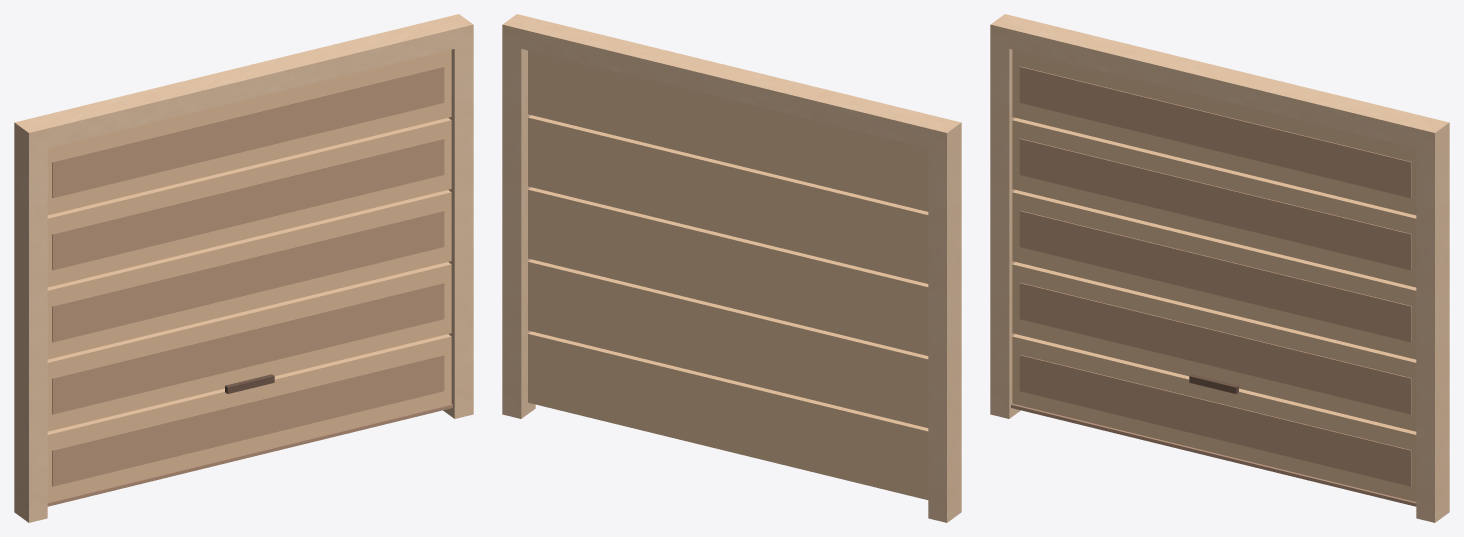
Rendered from Door_Garage.fbx.
3 renders of one model, left to right at view 1: azimuth 30°, elevation 25°; view 2: azimuth 150°, elevation 25°; view 3: azimuth 330°, elevation 25°, orthographic.
Parts seen in each view (by area): view 1: Door_Garage; view 2: Door_Garage; view 3: Door_Garage.
Part boxes in pixels (x1,y1,x2,y2): Door_Garage: (14, 14, 473, 522); Door_Garage: (502, 14, 961, 522); Door_Garage: (990, 14, 1449, 522).
Size of the model in its own units: 2.84 by 2.38 by 0.16.
Materials: 1 (1 with a texture image).
